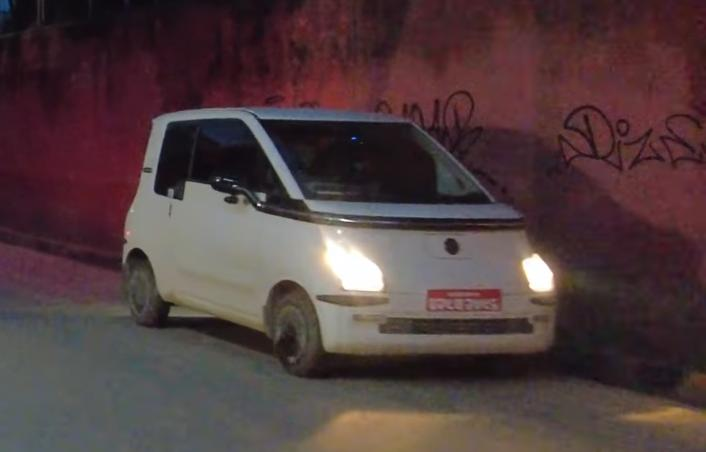car: (121, 103, 554, 386)
